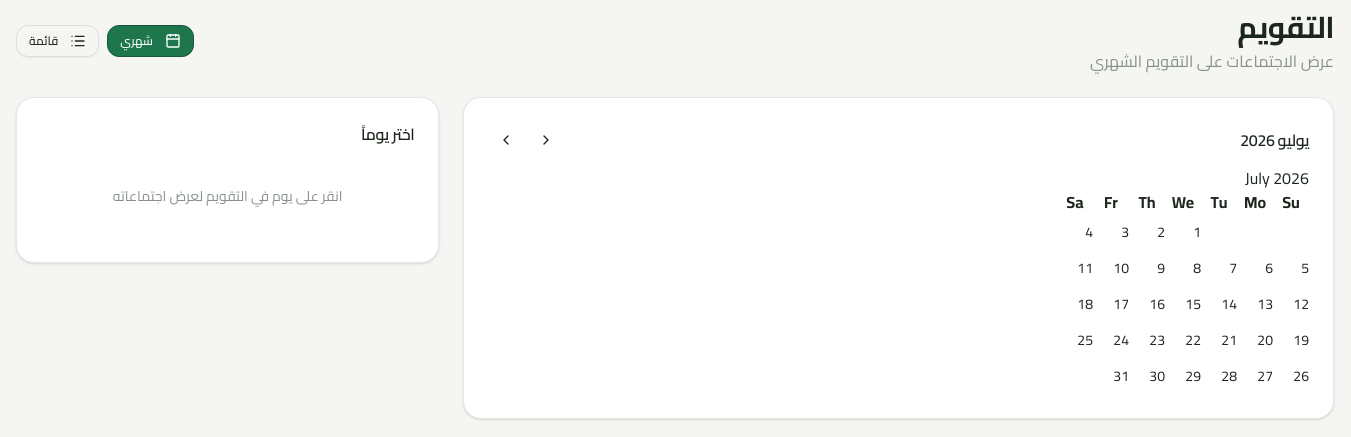
CalendarPage › switches to list view and shows events
The width and height of the screenshot is (1351, 437).
Click the button "قائمة" at (58, 41), box [16, 25, 99, 57]
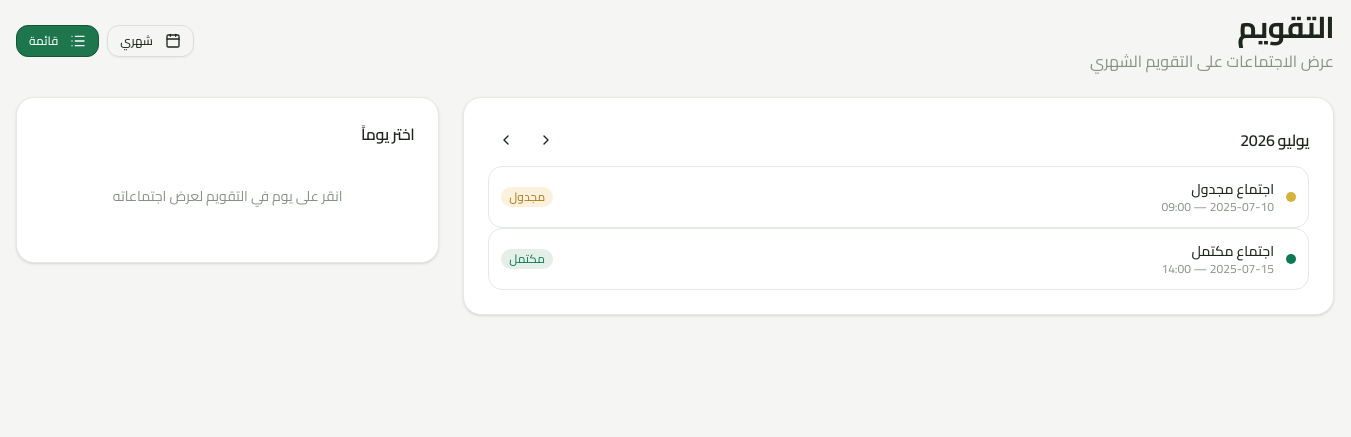
expect the text "اجتماع مجدول" is shown: met, box [1191, 176, 1274, 202]
